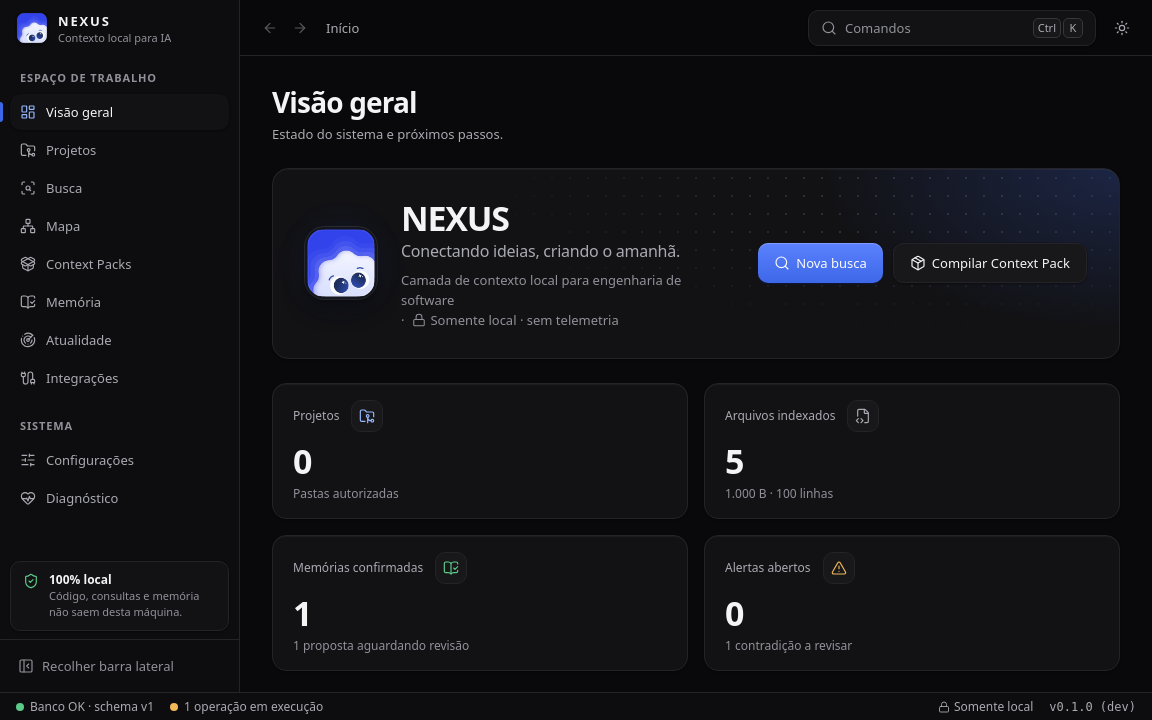
Memória › mostra o aviso de conflito quando a memória mudou em outro lugar
The width and height of the screenshot is (1152, 720).
Click the button "Memória": (120, 302) [10, 284, 229, 320]
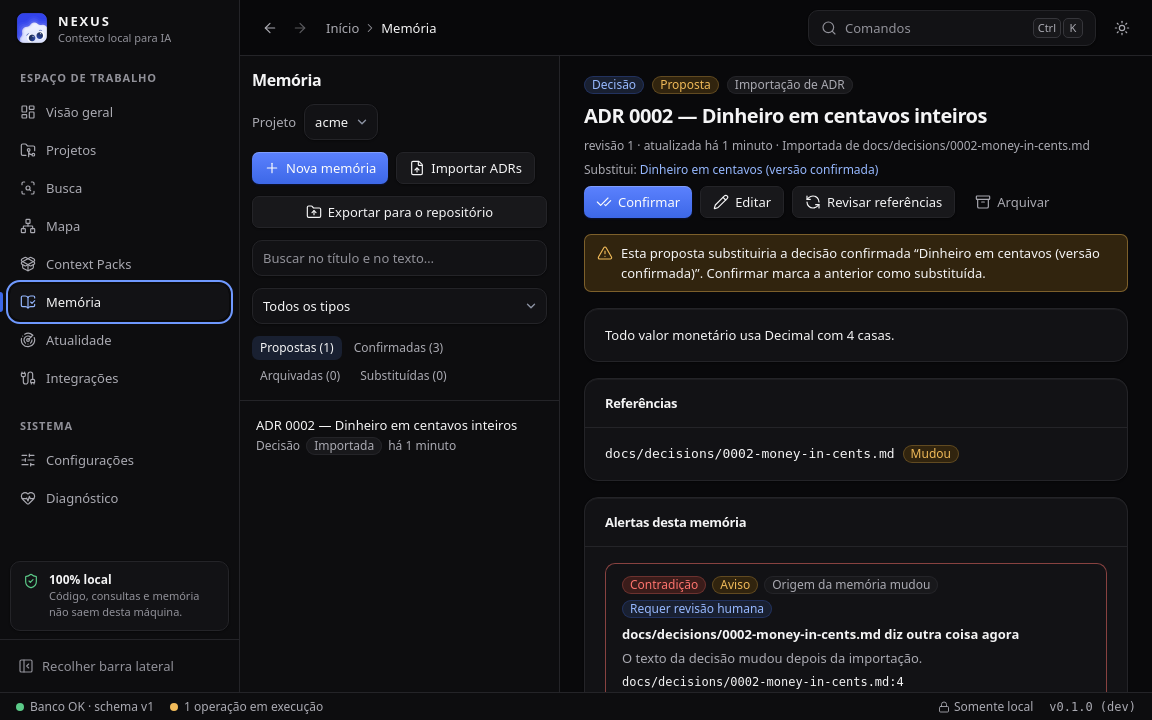
Click the button "Dinheiro em centavos inteiros": (400, 435) [246, 407, 553, 463]
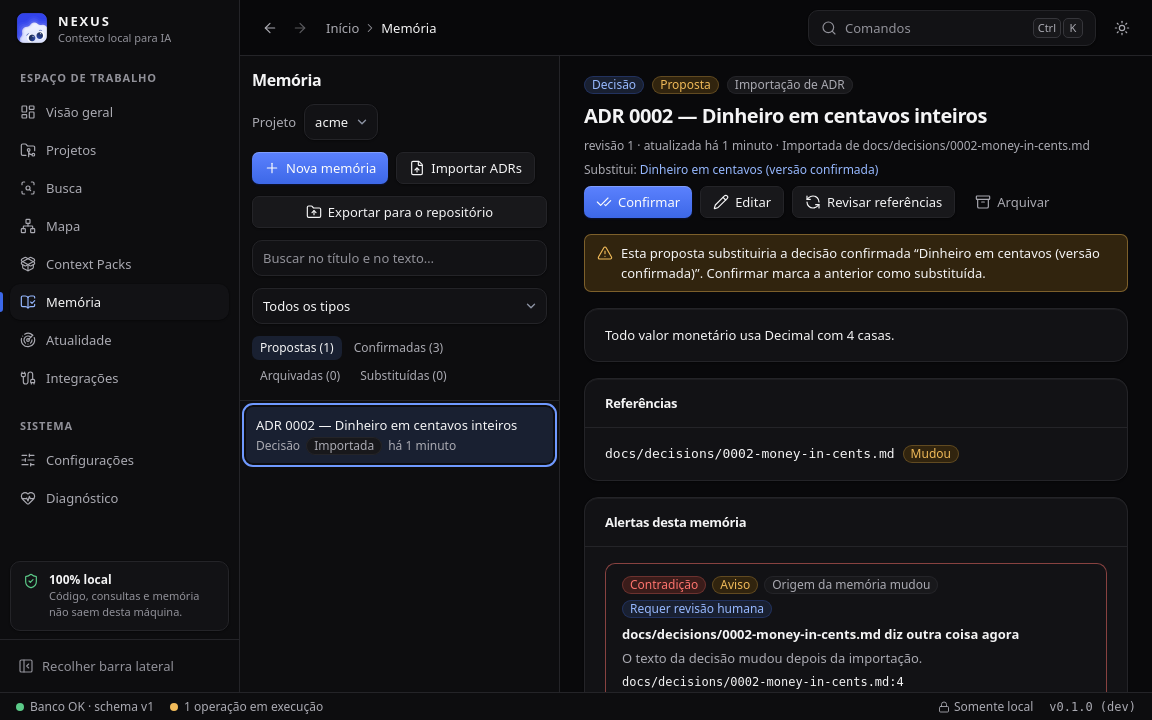
Click the button "Editar": (742, 202) [700, 186, 784, 218]
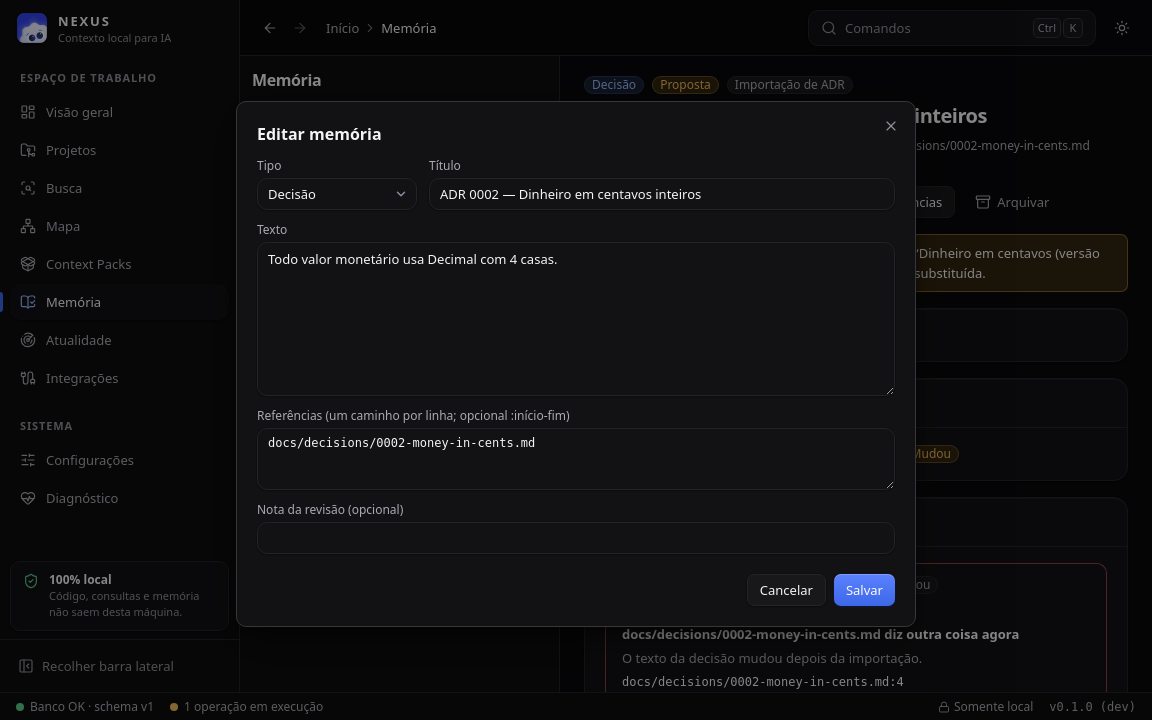
In the field labelled "Título": (662, 194) [429, 178, 895, 210], type " (v2)"
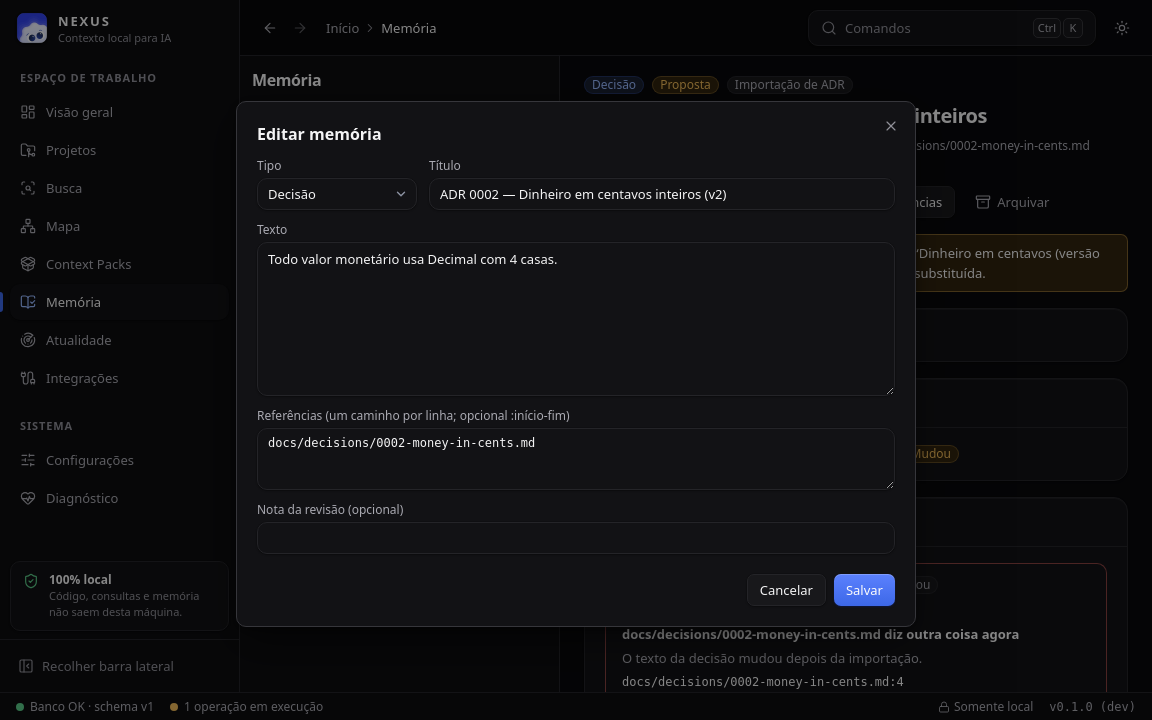
Click the button "Salvar": (864, 590) [834, 574, 895, 606]
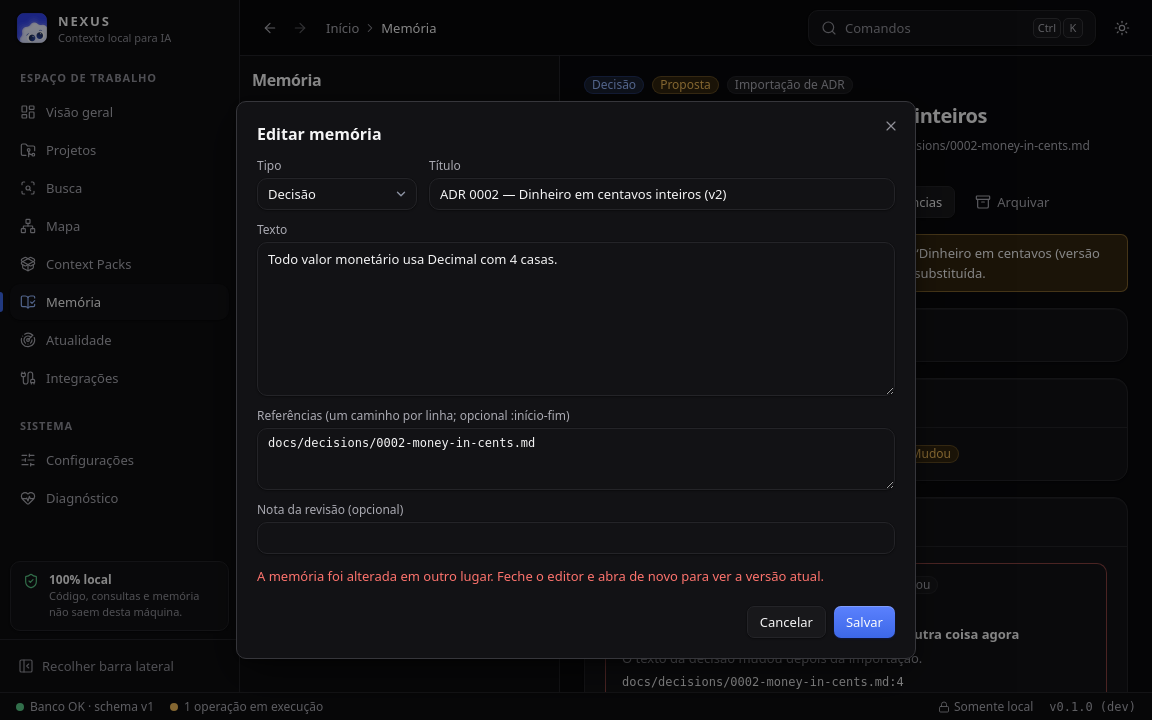
Now the message shows "A memória foi alterada em outro lugar", box [257, 567, 824, 585]
